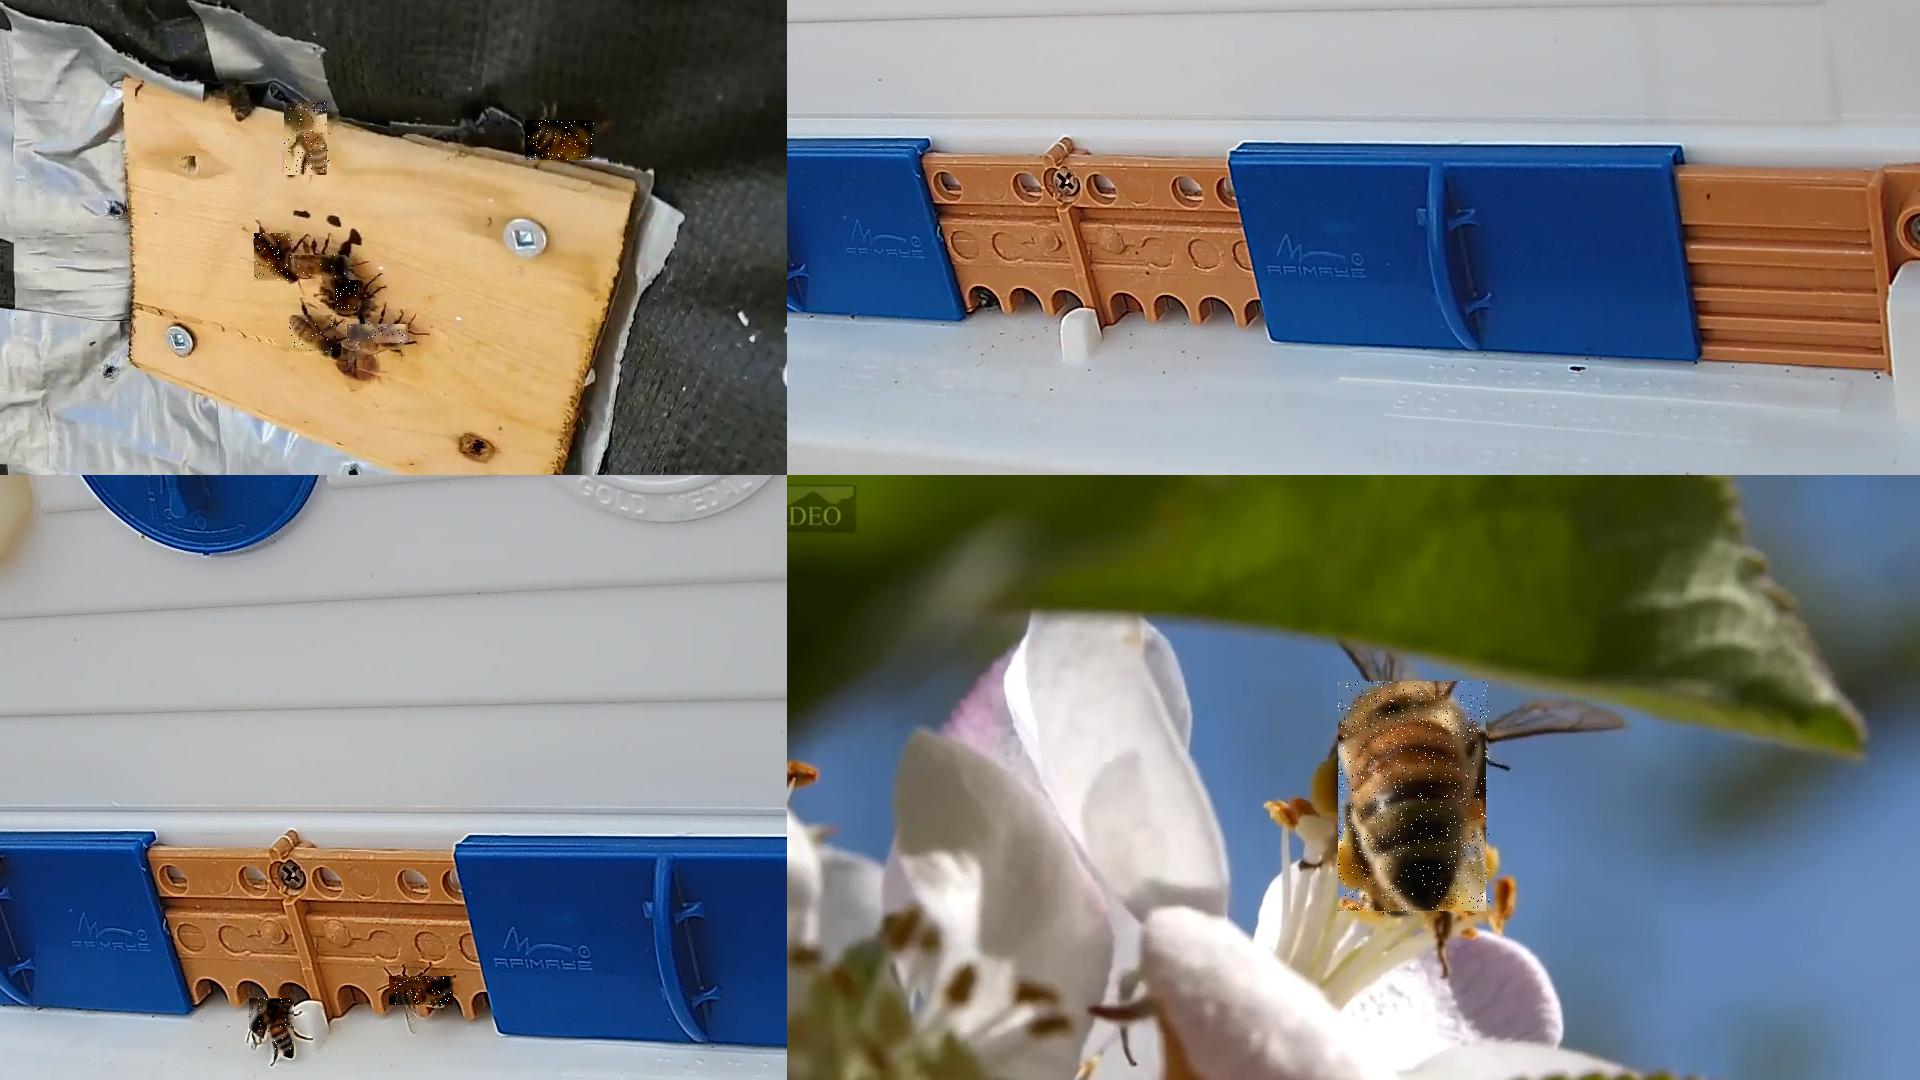bee: (285, 103, 332, 177), (526, 120, 596, 161), (255, 233, 294, 284), (389, 976, 454, 1006), (289, 316, 338, 356), (268, 1000, 295, 1056), (285, 256, 349, 278), (249, 998, 293, 1031), (348, 324, 410, 344), (335, 280, 359, 313)
pollenbee: (1338, 682, 1490, 915)
